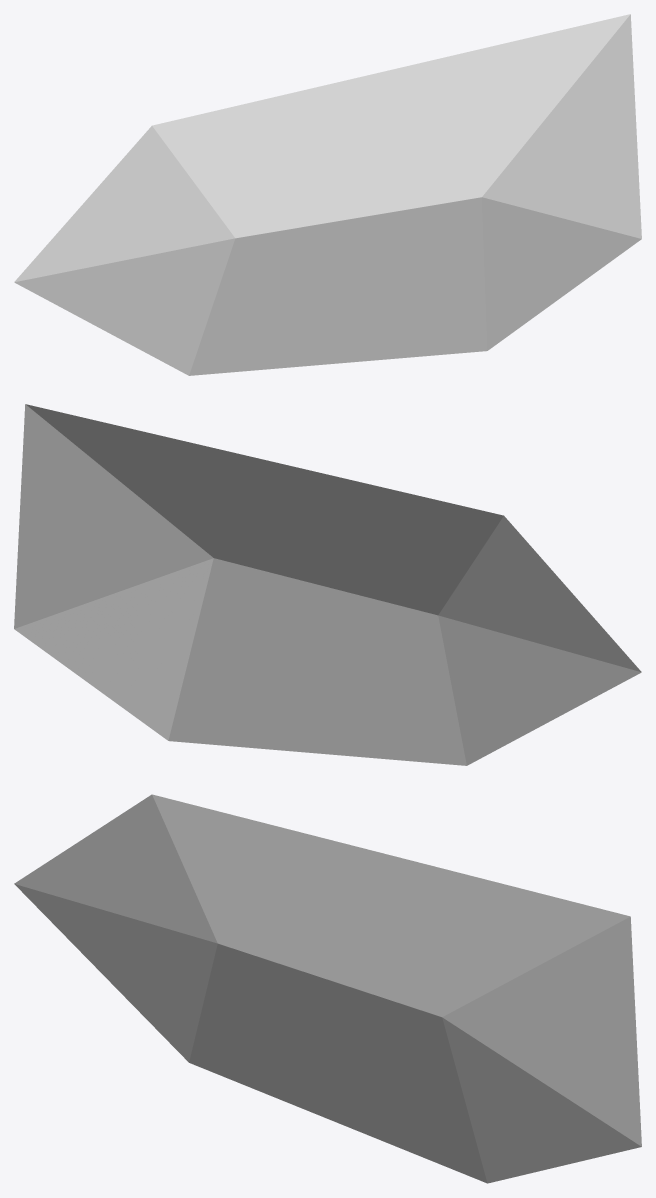
File: SM_Env_Ivy_06.glb
3 renders of one model, top to bottom at view 1: azimuth 30°, elevation 25°; view 2: azimuth 150°, elevation 25°; view 3: azimuth 330°, elevation 25°, orthographic.
Parts seen in each view (by area): view 1: SM_Env_Ivy_06; view 2: SM_Env_Ivy_06; view 3: SM_Env_Ivy_06.
Part boxes in pixels (x1,y1,x2,y2): SM_Env_Ivy_06: [14, 14, 641, 375]; SM_Env_Ivy_06: [14, 404, 641, 765]; SM_Env_Ivy_06: [14, 794, 641, 1183].
Size of the model in its own units: 1.44 by 0.6756 by 0.0792.
1 material, 1 textured.
